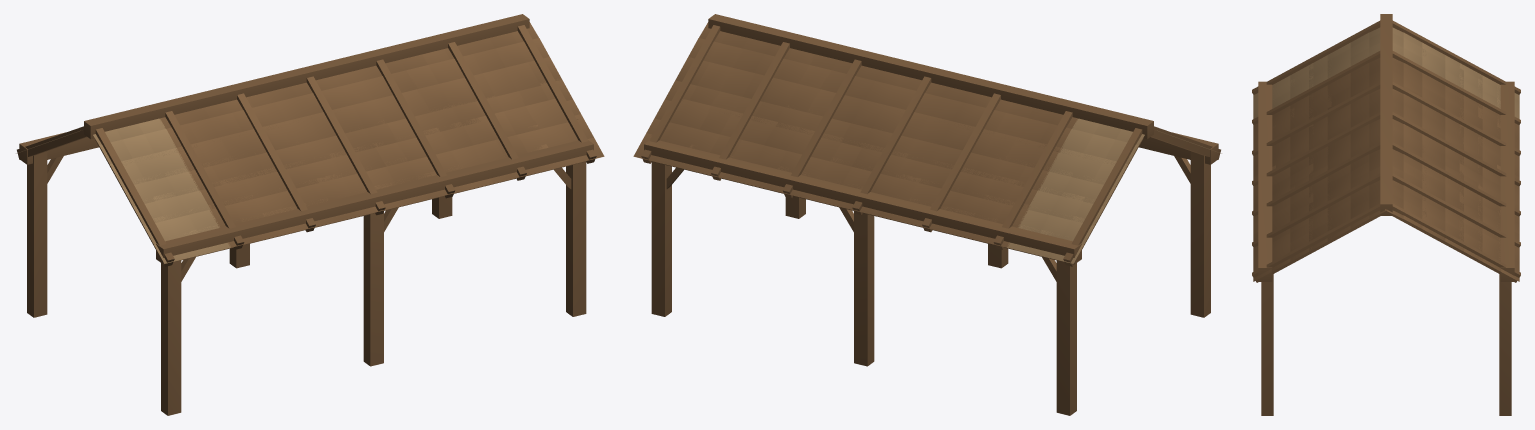
The model's file is working_forest_shelter.glb.
The picture shows the model from 3 angles, left to right: view 1: azimuth 30°, elevation 25°; view 2: azimuth 150°, elevation 25°; view 3: azimuth 270°, elevation 25°; orthographic projection. The views are drawn at different scales.
Parts seen in each view (by area): view 1: working_forest_shelter_painted_export; view 2: working_forest_shelter_painted_export; view 3: working_forest_shelter_painted_export.
Part boxes in pixels (x1,y1,x2,y2): working_forest_shelter_painted_export: (16,14,604,415); working_forest_shelter_painted_export: (633,14,1221,415); working_forest_shelter_painted_export: (1252,14,1520,415).
Bounding box in the file's own units: 10.48 × 5.51 × 6.21.
